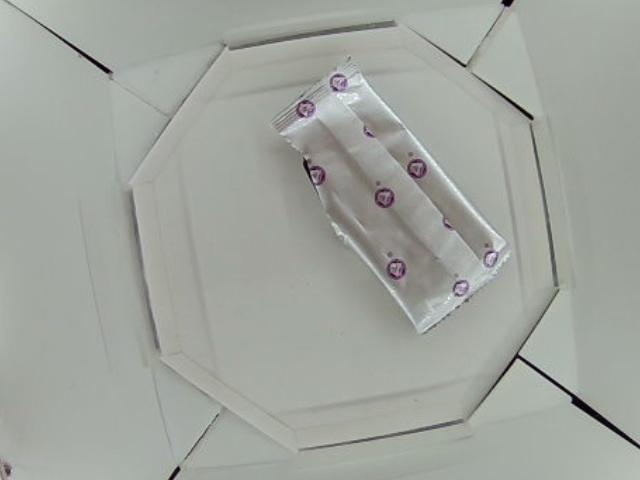Medicine: (274, 56, 512, 336)
